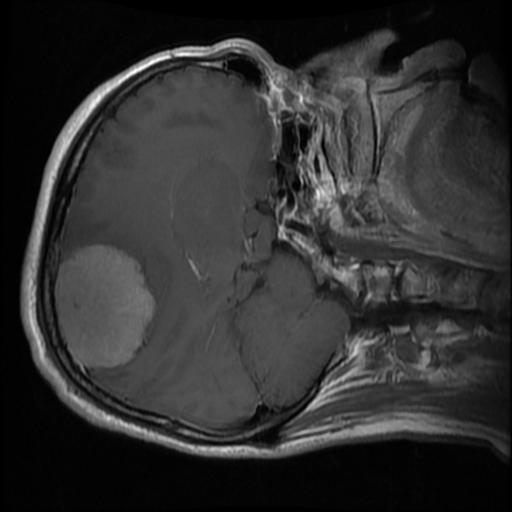meningioma: (54, 243, 158, 371)
